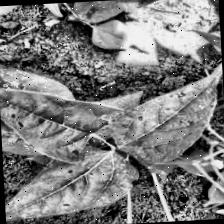ALS: (0, 63, 98, 165), (2, 149, 135, 219), (121, 75, 224, 164)
